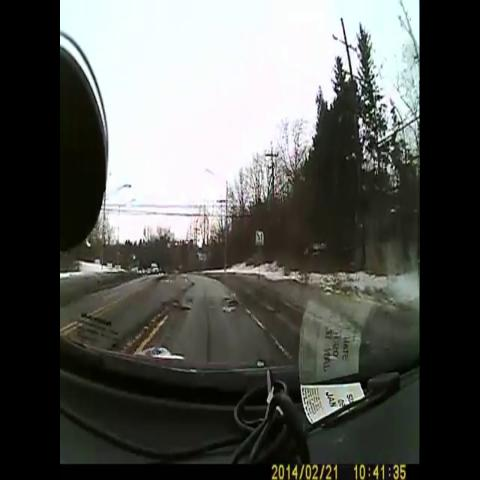pothole: (157, 285, 199, 328), (217, 283, 241, 322)
